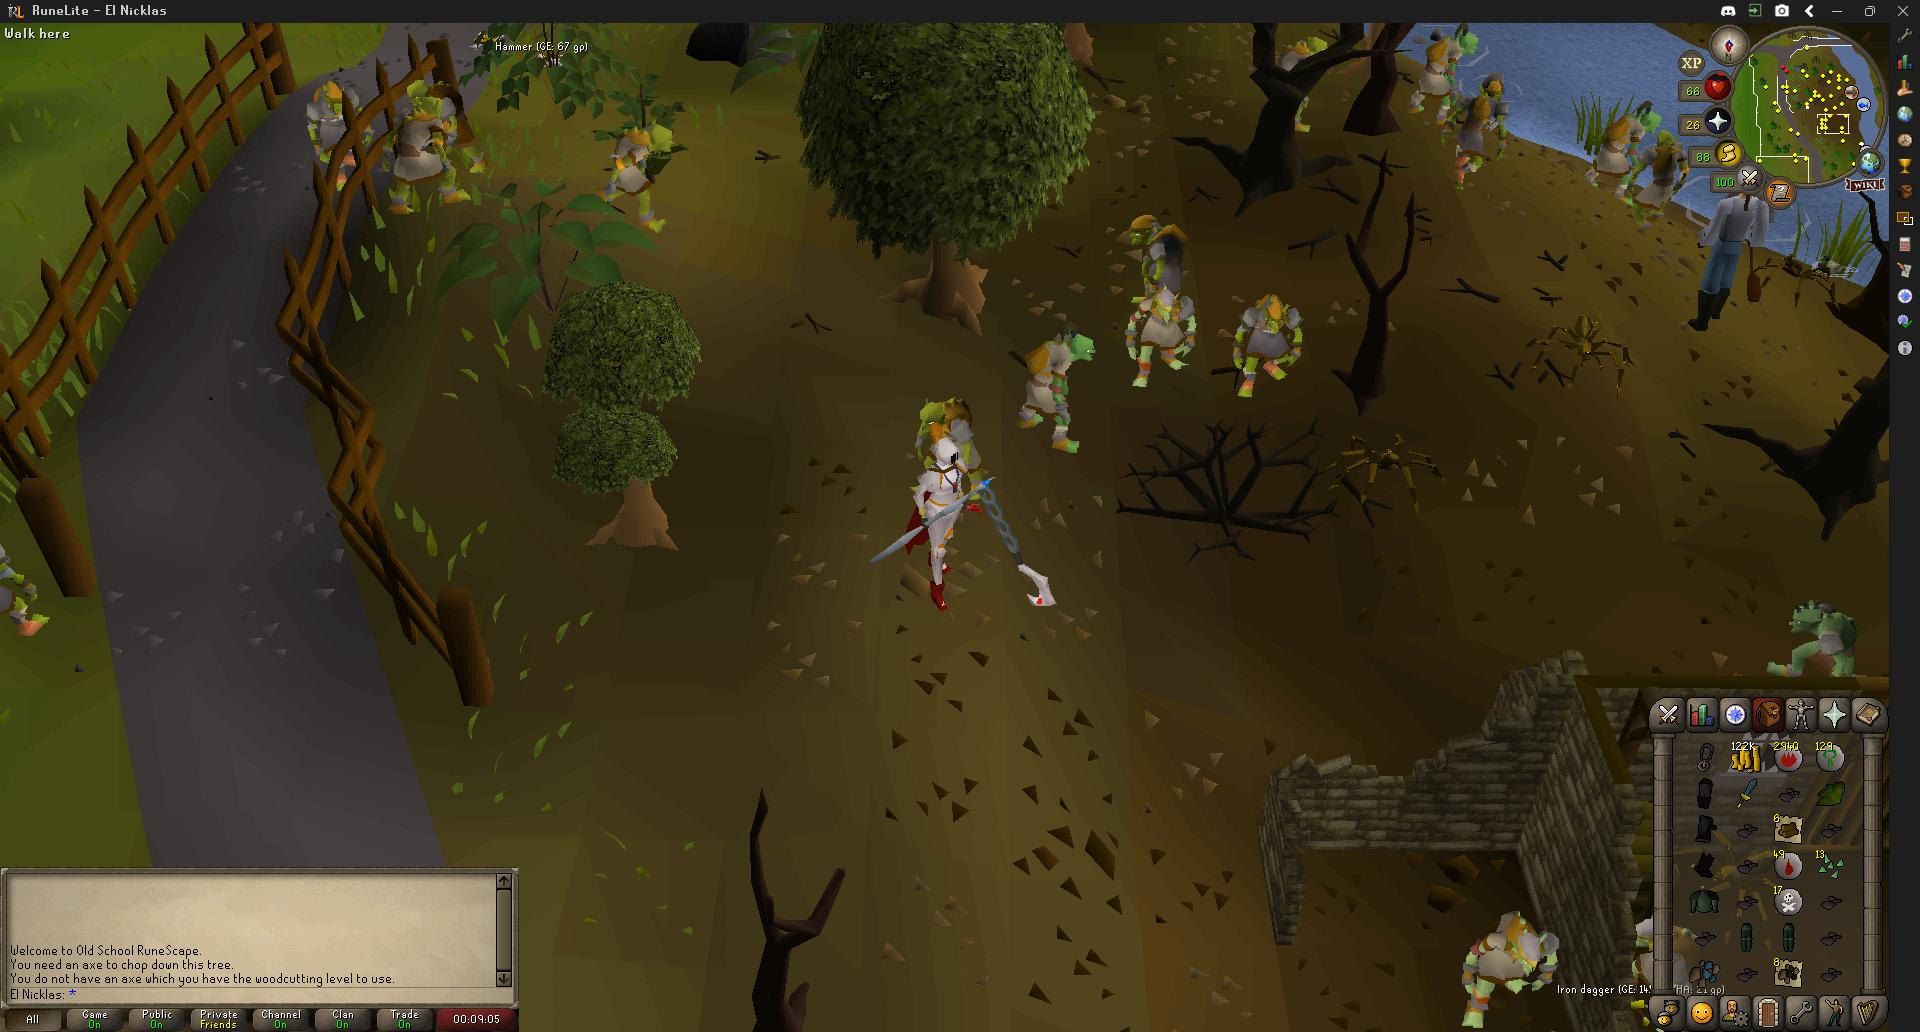Player: (903, 436, 977, 613)
goblin: (1124, 213, 1195, 386), (379, 78, 471, 209), (1456, 908, 1552, 1029), (1017, 328, 1089, 448), (1628, 911, 1700, 1029), (603, 122, 677, 232), (305, 79, 370, 196), (1242, 291, 1312, 391), (1626, 129, 1689, 232), (914, 395, 979, 486), (1765, 608, 1857, 672), (1263, 25, 1313, 136), (1453, 74, 1509, 158), (1, 541, 50, 637), (1590, 112, 1642, 198), (1412, 30, 1457, 115)
